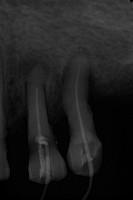Dental Caries: (58, 45, 96, 98)
Furcation Involvement: (16, 51, 54, 82)
